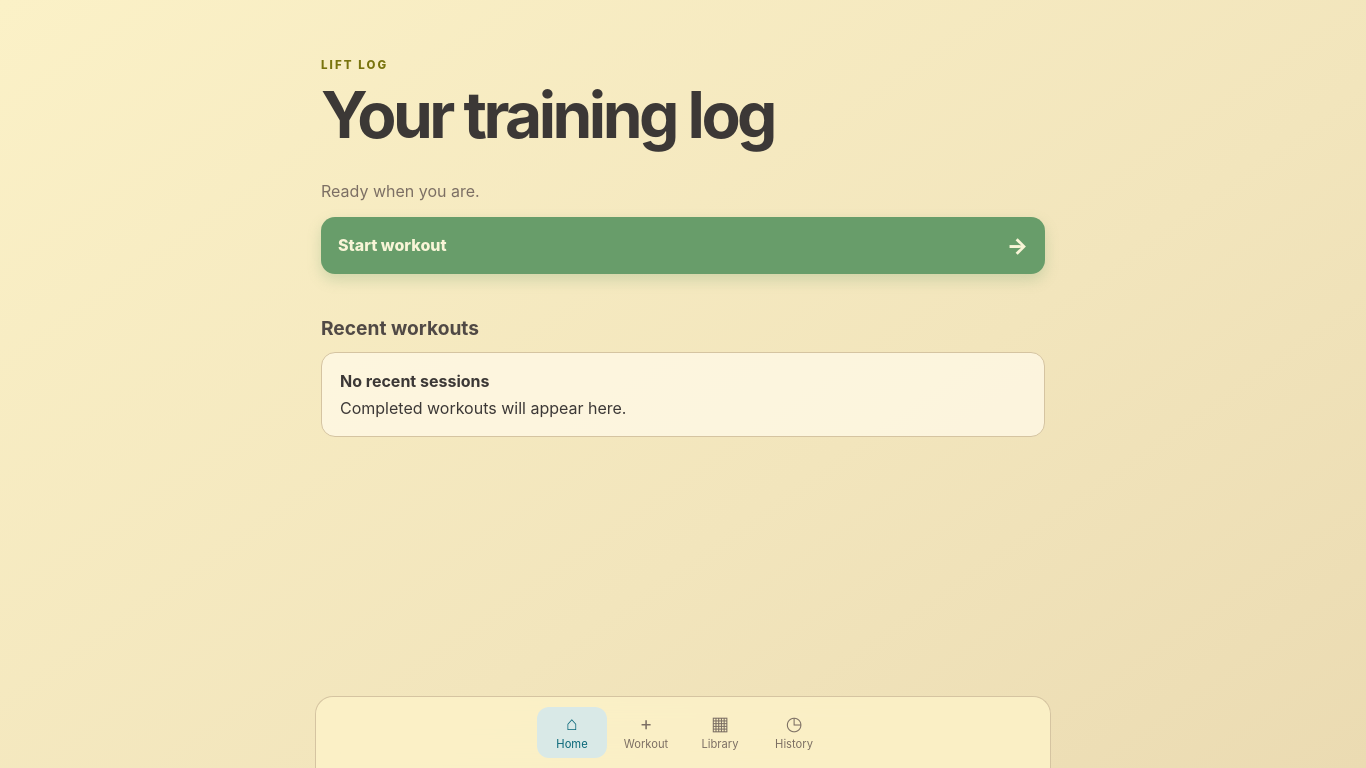
Test: application shell actions › starts a workout and opens exercise selection
This screenshot has width=1366, height=768.
Click the button "Start workout →". click: (392, 245)
box: left=321, top=217, right=1045, bottom=274
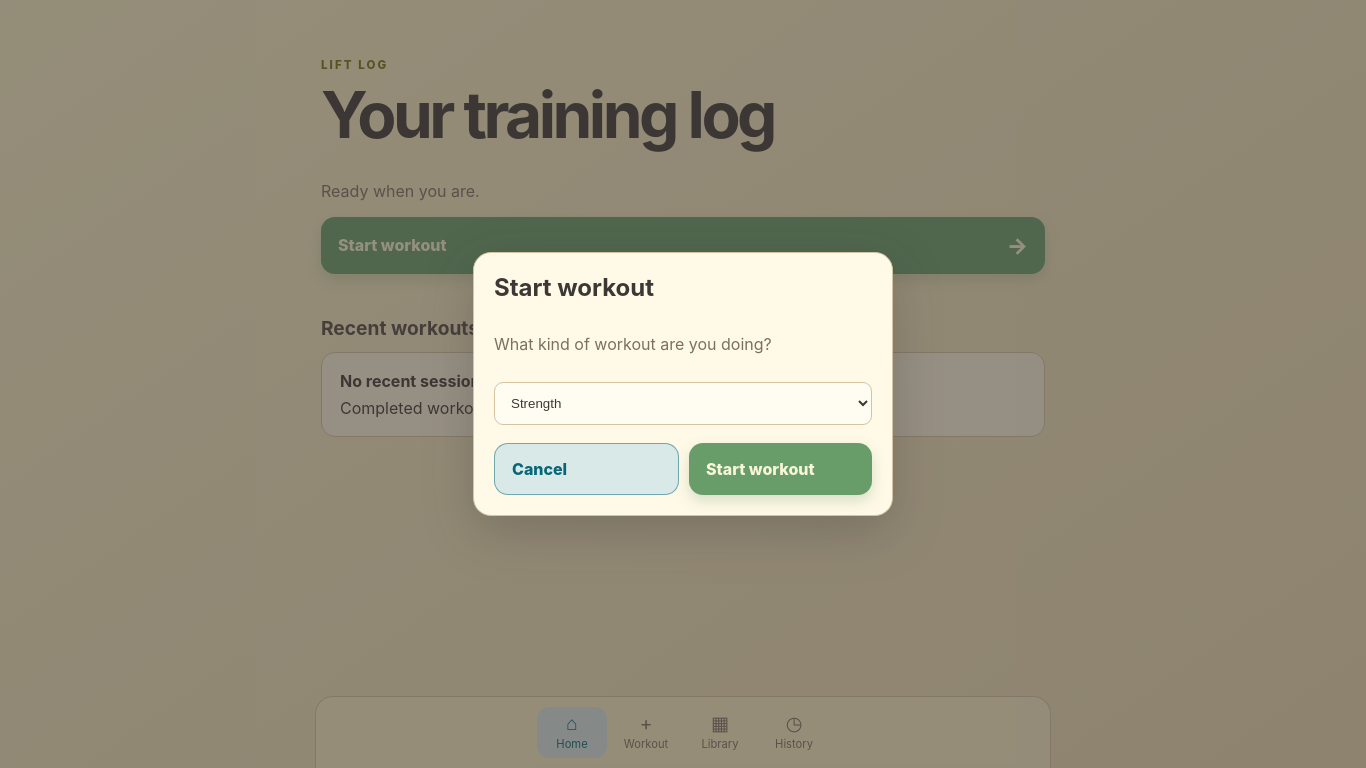
Click the button "Start workout". click: (780, 469)
box: left=689, top=443, right=872, bottom=495
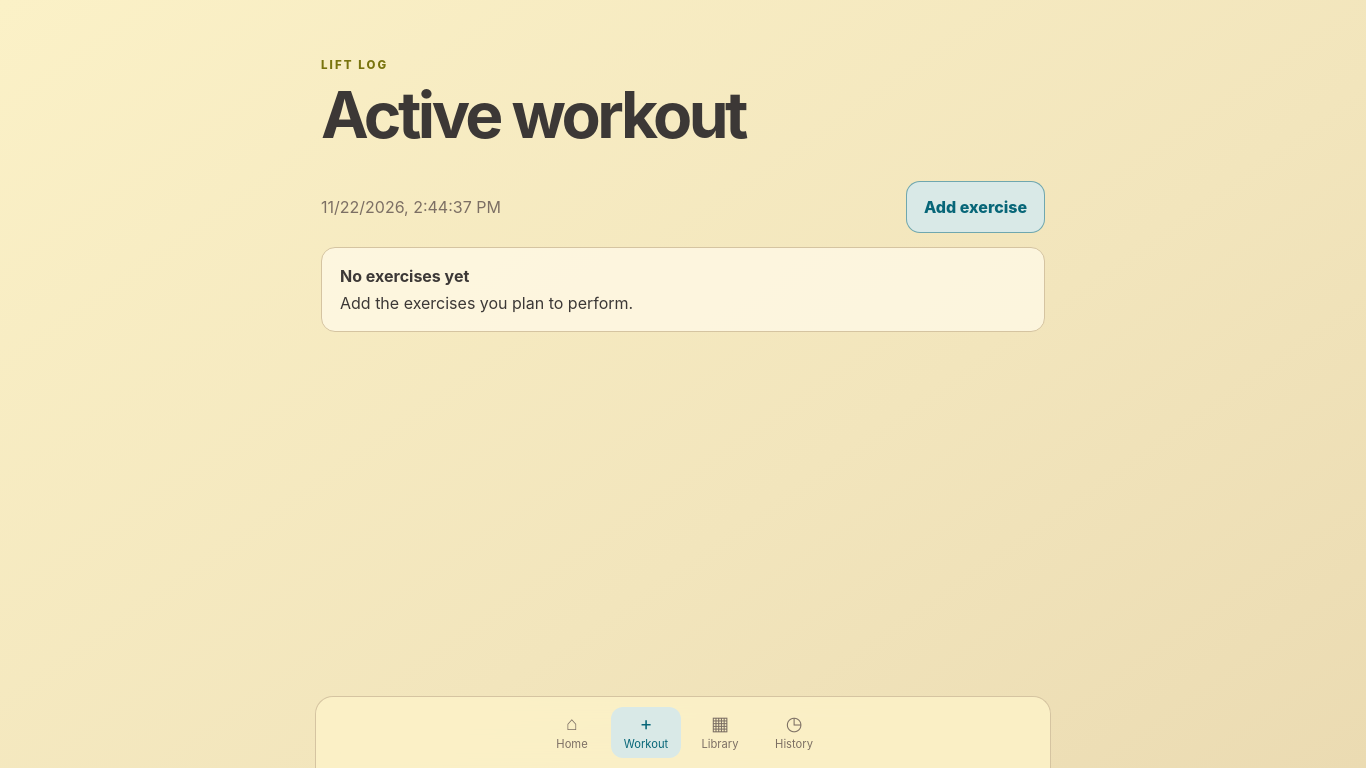
Check: the heading "Active workout" is shown, box left=321, top=76, right=745, bottom=153
Click the button "Add exercise". click: (976, 207)
box: left=906, top=181, right=1045, bottom=233
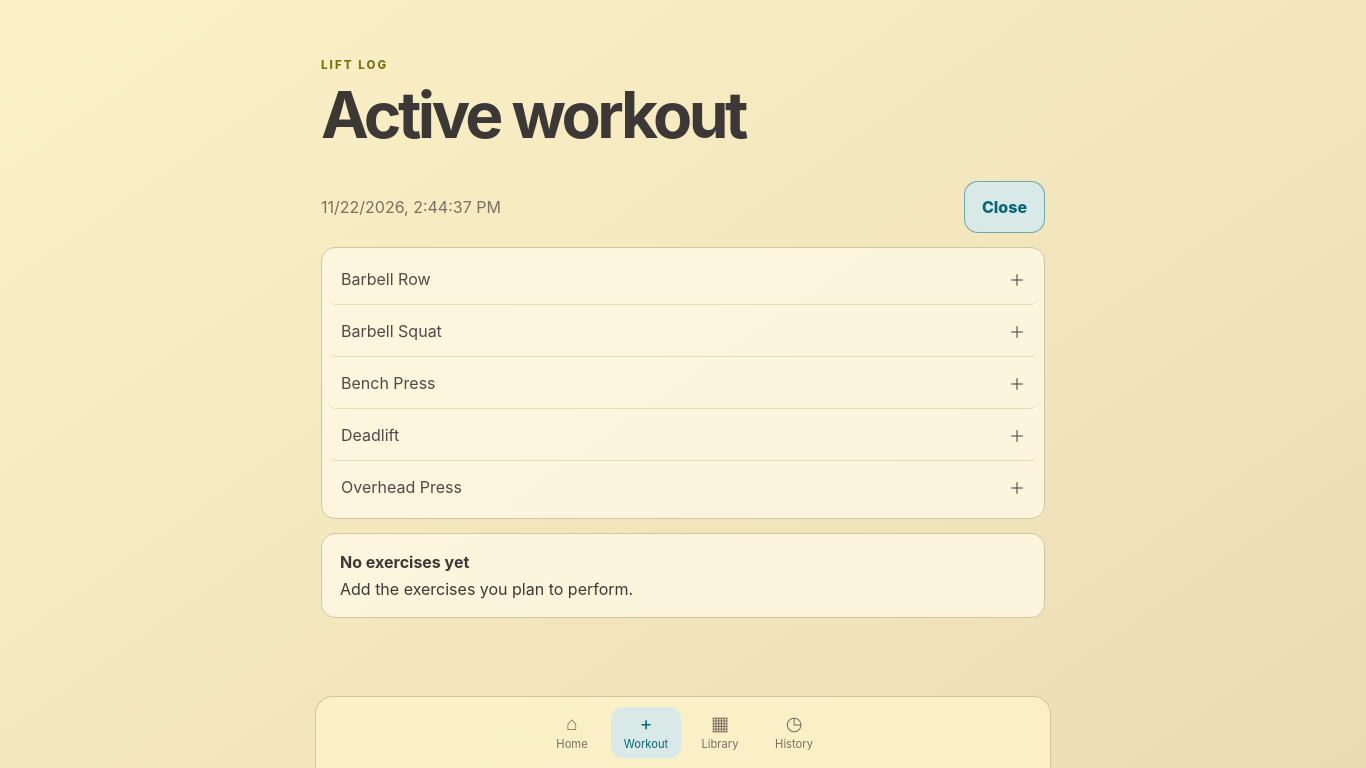
Check: the button "Deadlift ＋" is shown, box left=328, top=410, right=1038, bottom=461
